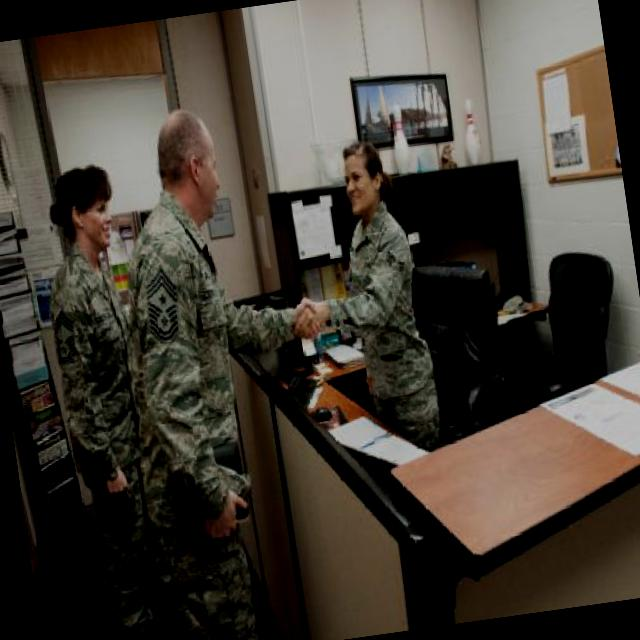Person: (90, 89, 372, 640), (32, 165, 185, 640), (304, 121, 454, 482)
